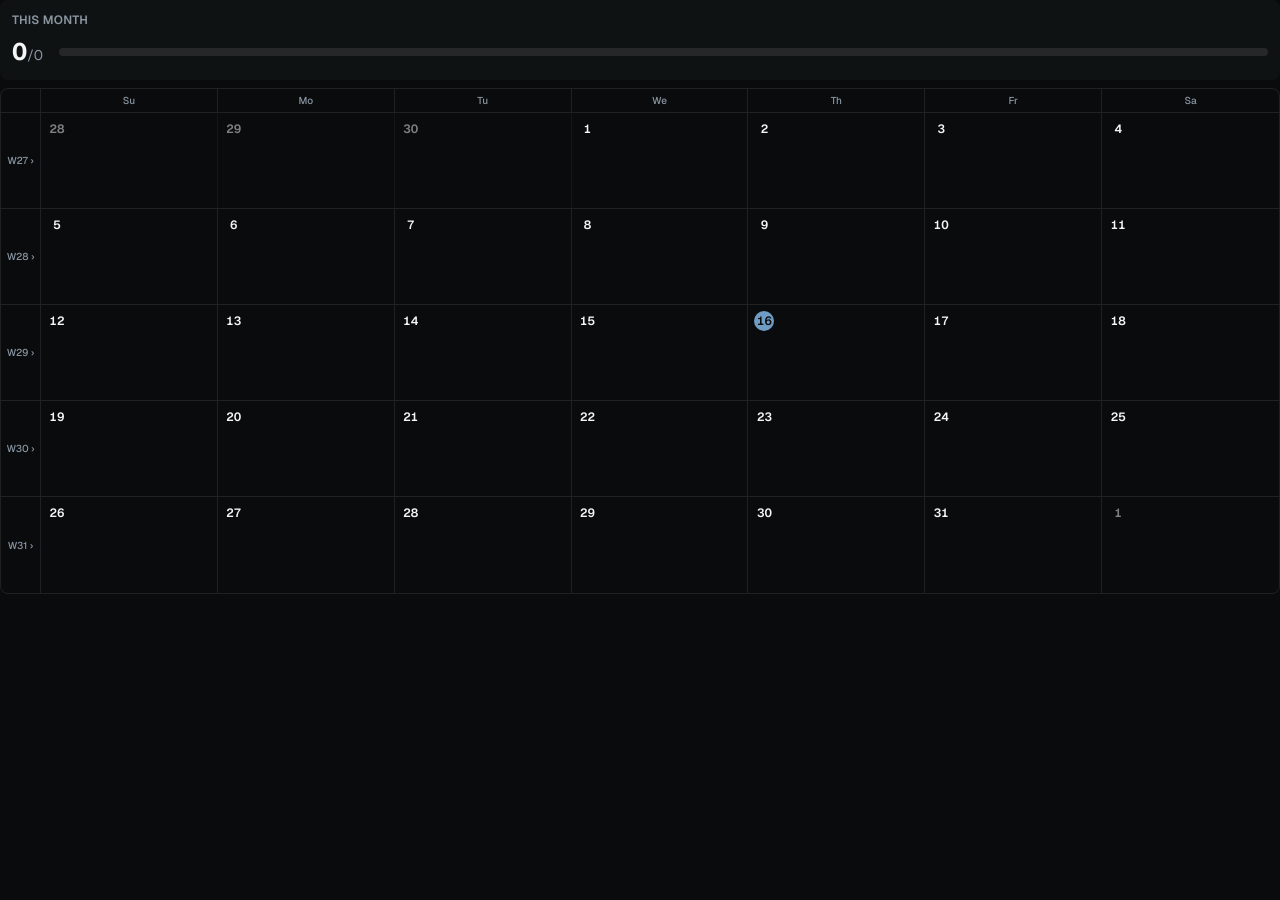
MonthlyView › closing the task-detail drawer returns to the day-agenda drawer, not to no overlay
Click the button named "Open 2026-07-14": point(483, 352) [395,305,572,400]
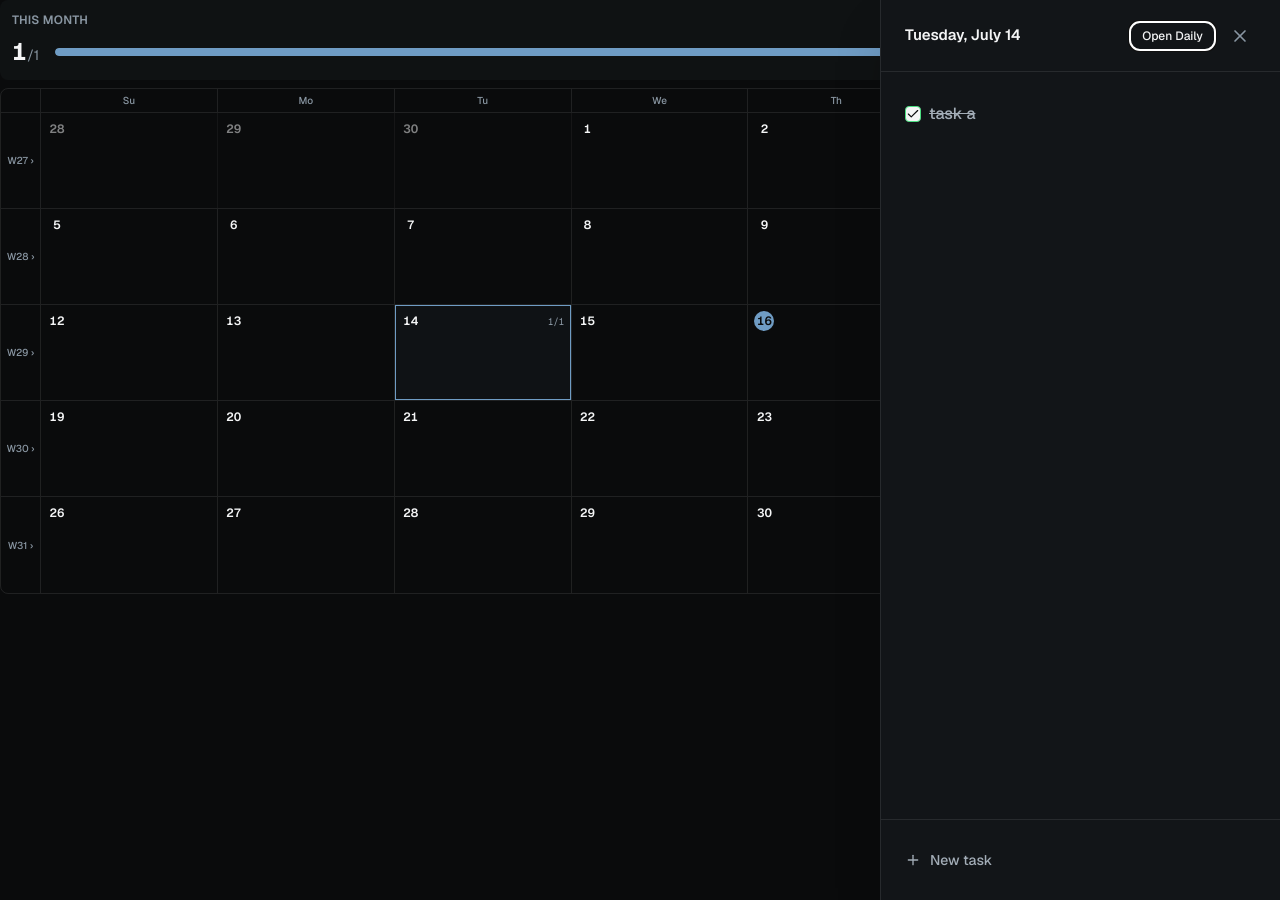
Now the dialog with test id "day-agenda-drawer" is shown, box [880,0,1279,899]
Now the button "task a" is shown
Click the button "task a": point(952, 114) [929,102,1256,126]
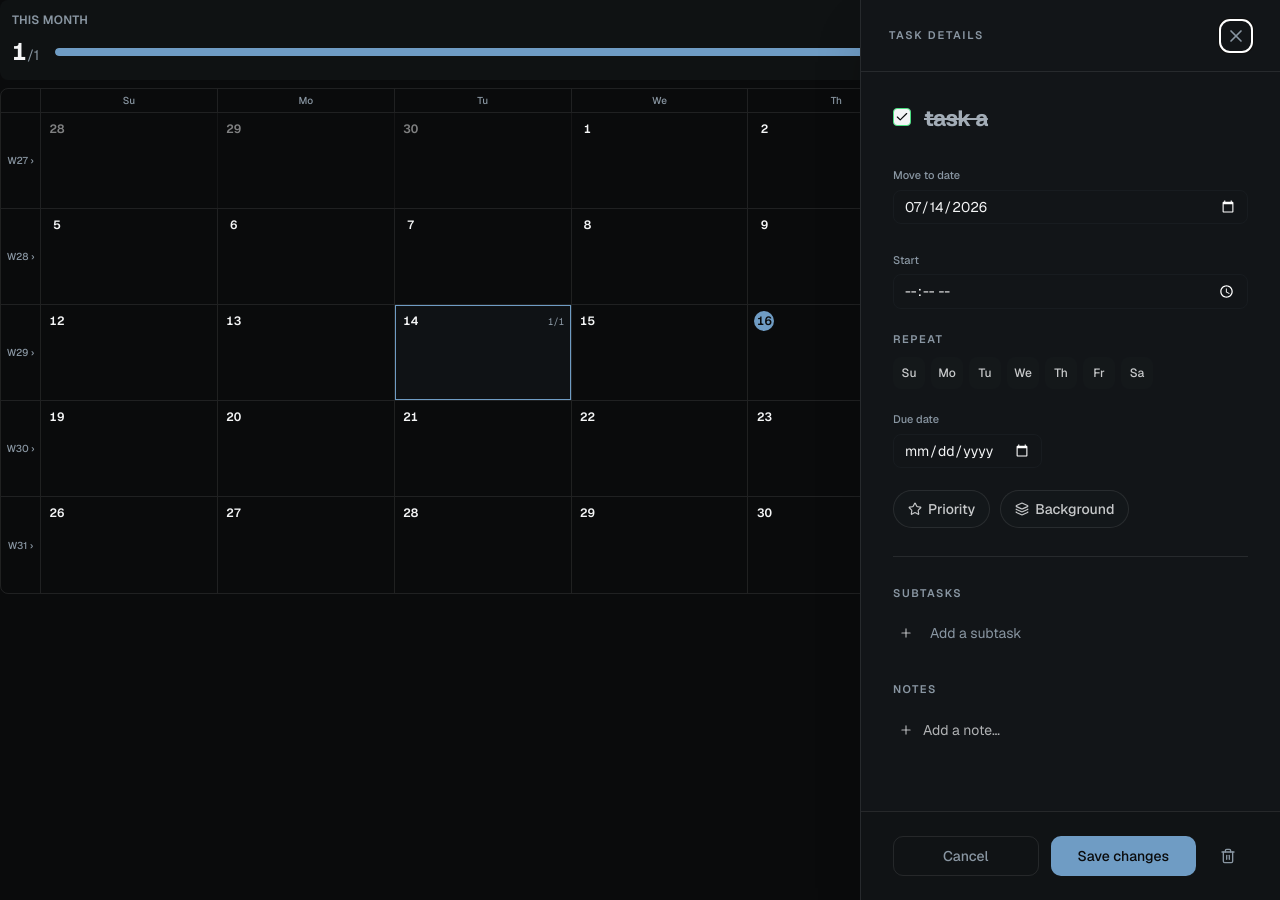
Now the dialog with test id "task-detail-drawer" is shown, box [860,0,1279,899]
Click the button named "Close details": point(1236, 36) [1220,20,1252,52]
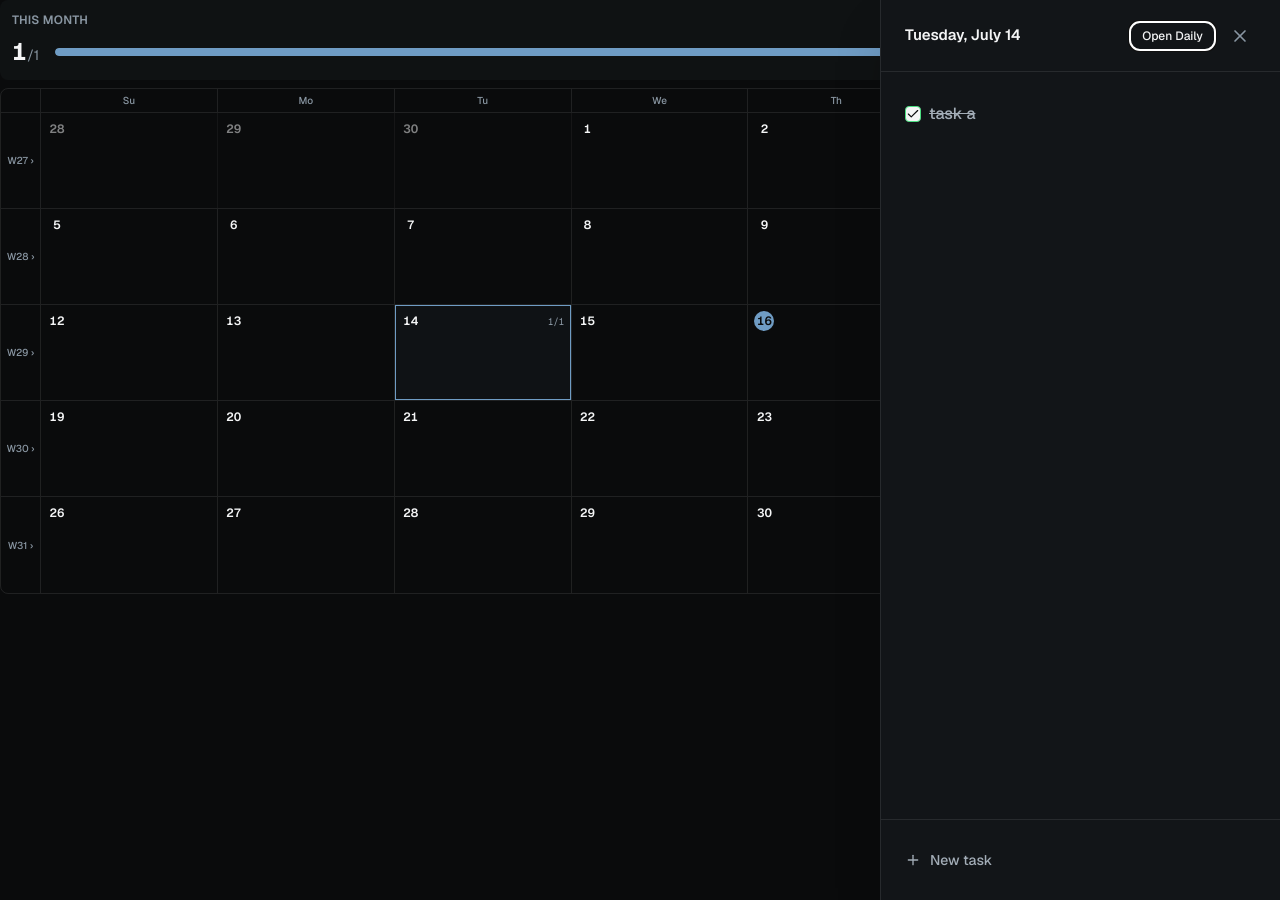
Now the dialog with test id "day-agenda-drawer" is shown, box [880,0,1279,899]
Now the dialog with test id "task-detail-drawer" is gone
